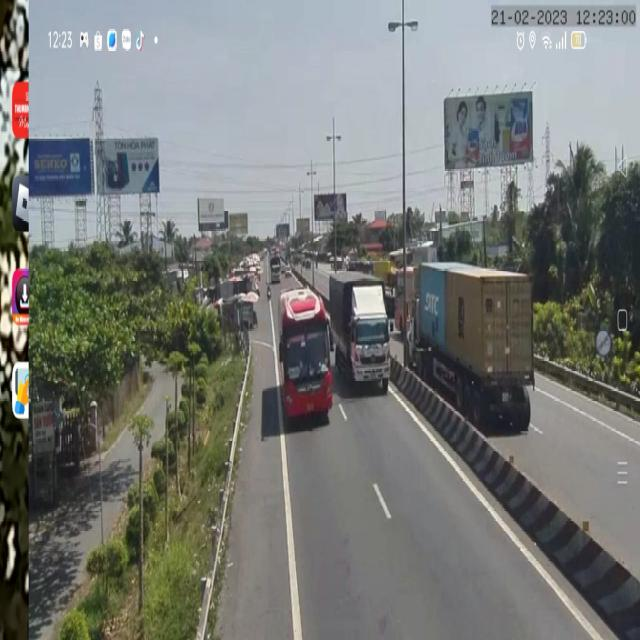bus: (278, 284, 334, 430), (393, 266, 415, 337)
truck: (403, 262, 537, 434), (327, 269, 392, 399)
